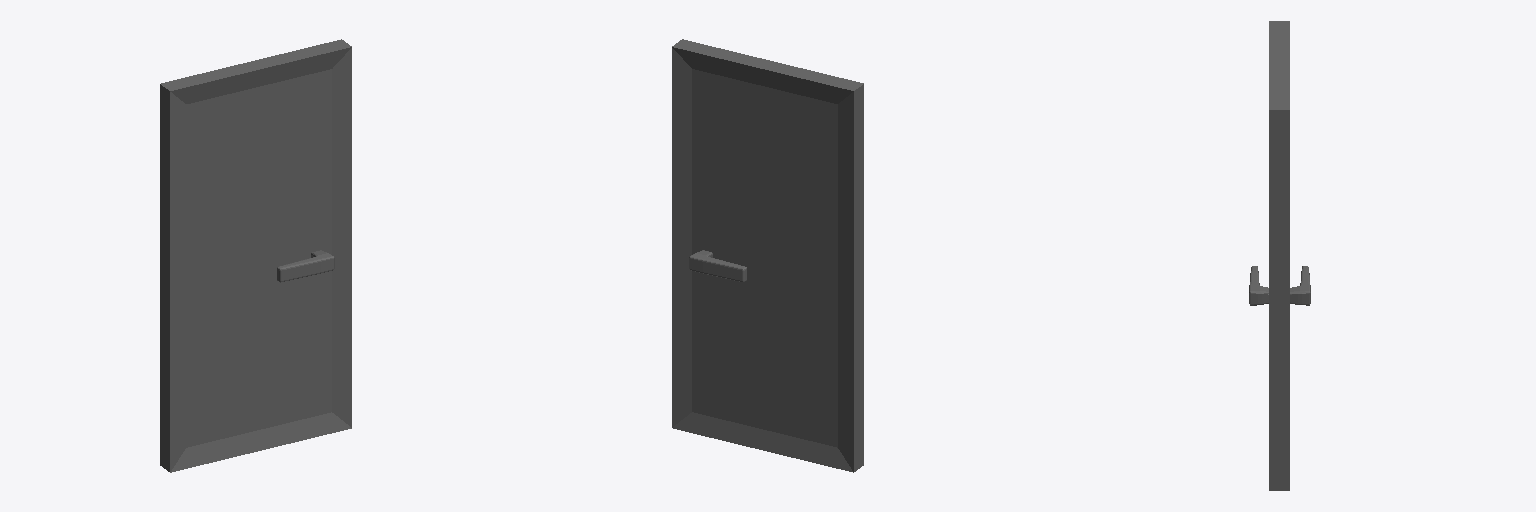
File: Door.obj
3 views of the same model, side by side, from view 1: azimuth 30°, elevation 25°; view 2: azimuth 150°, elevation 25°; view 3: azimuth 270°, elevation 25° (orthographic).
Visible parts, largest first — view 1: Door; view 2: Door; view 3: Door.
Boxes of the visible parts, box(x1,y1,x2,y2) form: Door: box(160, 39, 351, 472); Door: box(672, 39, 863, 472); Door: box(1249, 21, 1310, 490).
Bounding box in the file's own units: 39.37 × 78.74 × 11.48.